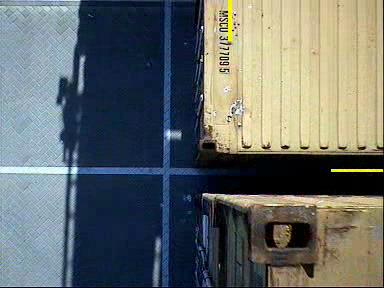groundmarker_2: (130, 131, 217, 178), (128, 197, 215, 244)
